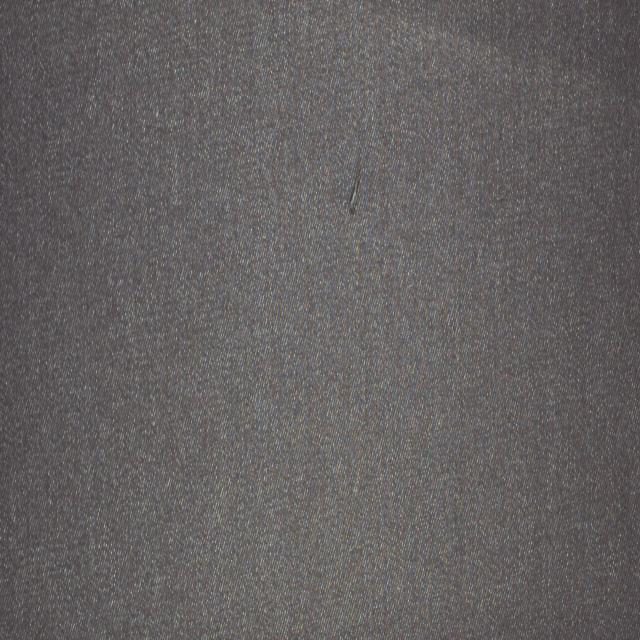Knot: (349, 157, 363, 214)
